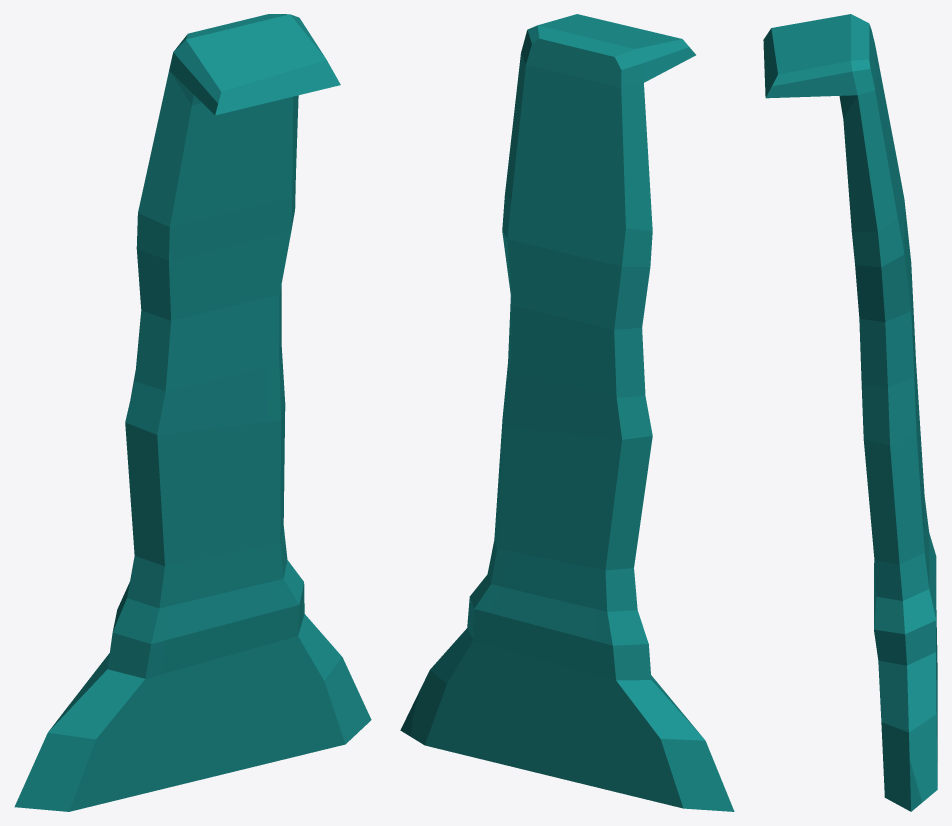
The model's file is CascadaAnimada_000020.obj.
3 renders of one model, left to right at view 1: azimuth 30°, elevation 25°; view 2: azimuth 150°, elevation 25°; view 3: azimuth 270°, elevation 25°, orthographic. The views are drawn at different scales.
Parts seen in each view (by area): view 1: Cube.053, Cube.054; view 2: Cube.053, Cube.054; view 3: Cube.053, Cube.054.
Part boxes in pixels (box(x1,y1,x2,y2)): Cube.053: box(14, 14, 371, 811); Cube.054: box(169, 14, 340, 115); Cube.053: box(400, 25, 734, 811); Cube.054: box(538, 14, 695, 82); Cube.053: box(839, 14, 937, 811); Cube.054: box(763, 14, 857, 98).
Bounding box in the file's own units: 136 × 277 × 62.23.
